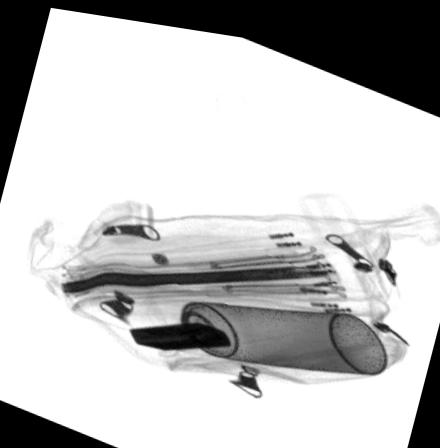Lighter: (127, 313, 231, 345)
Sprayer: (123, 295, 386, 362)
